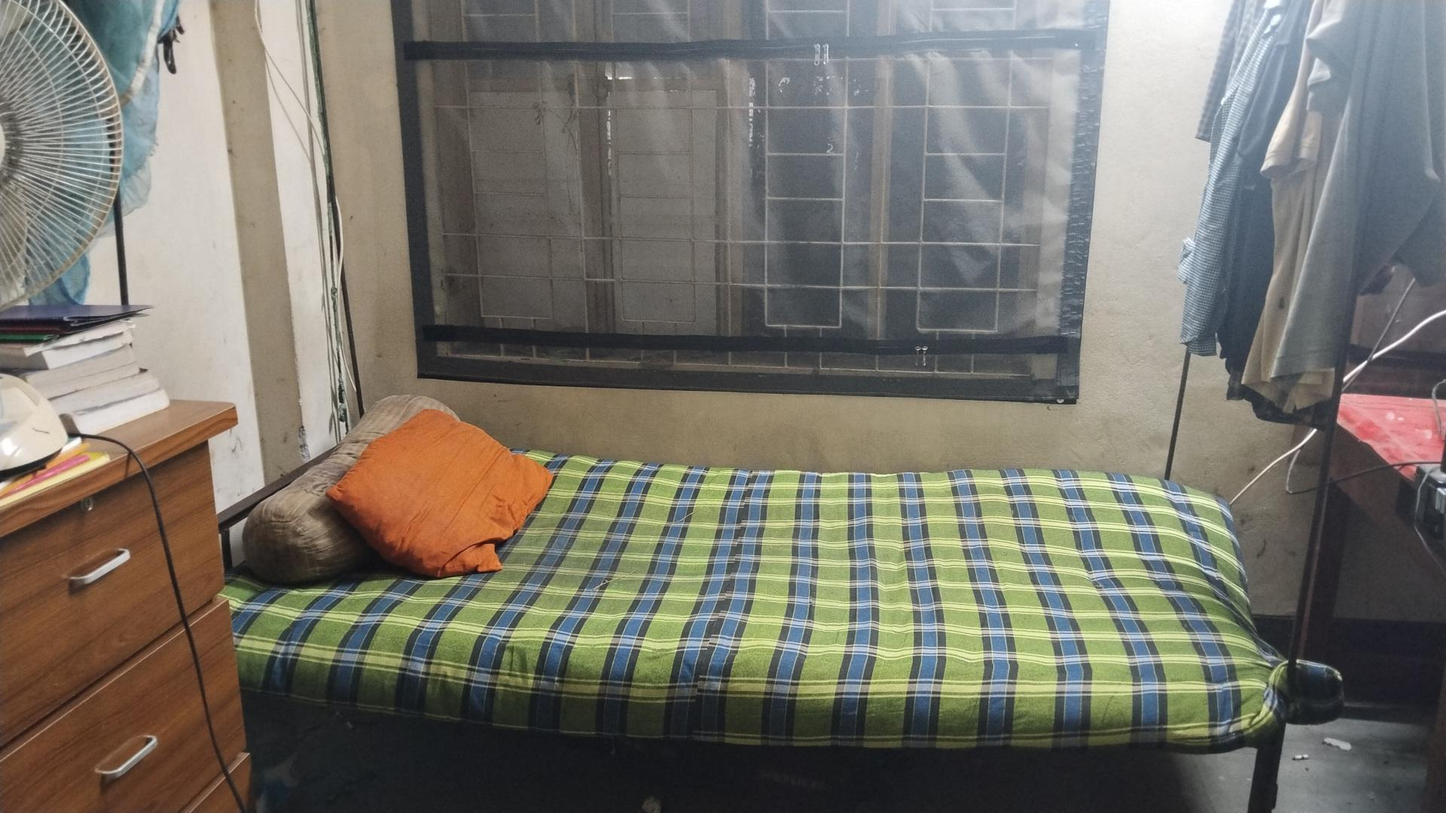Jug: (340, 388, 555, 572)
